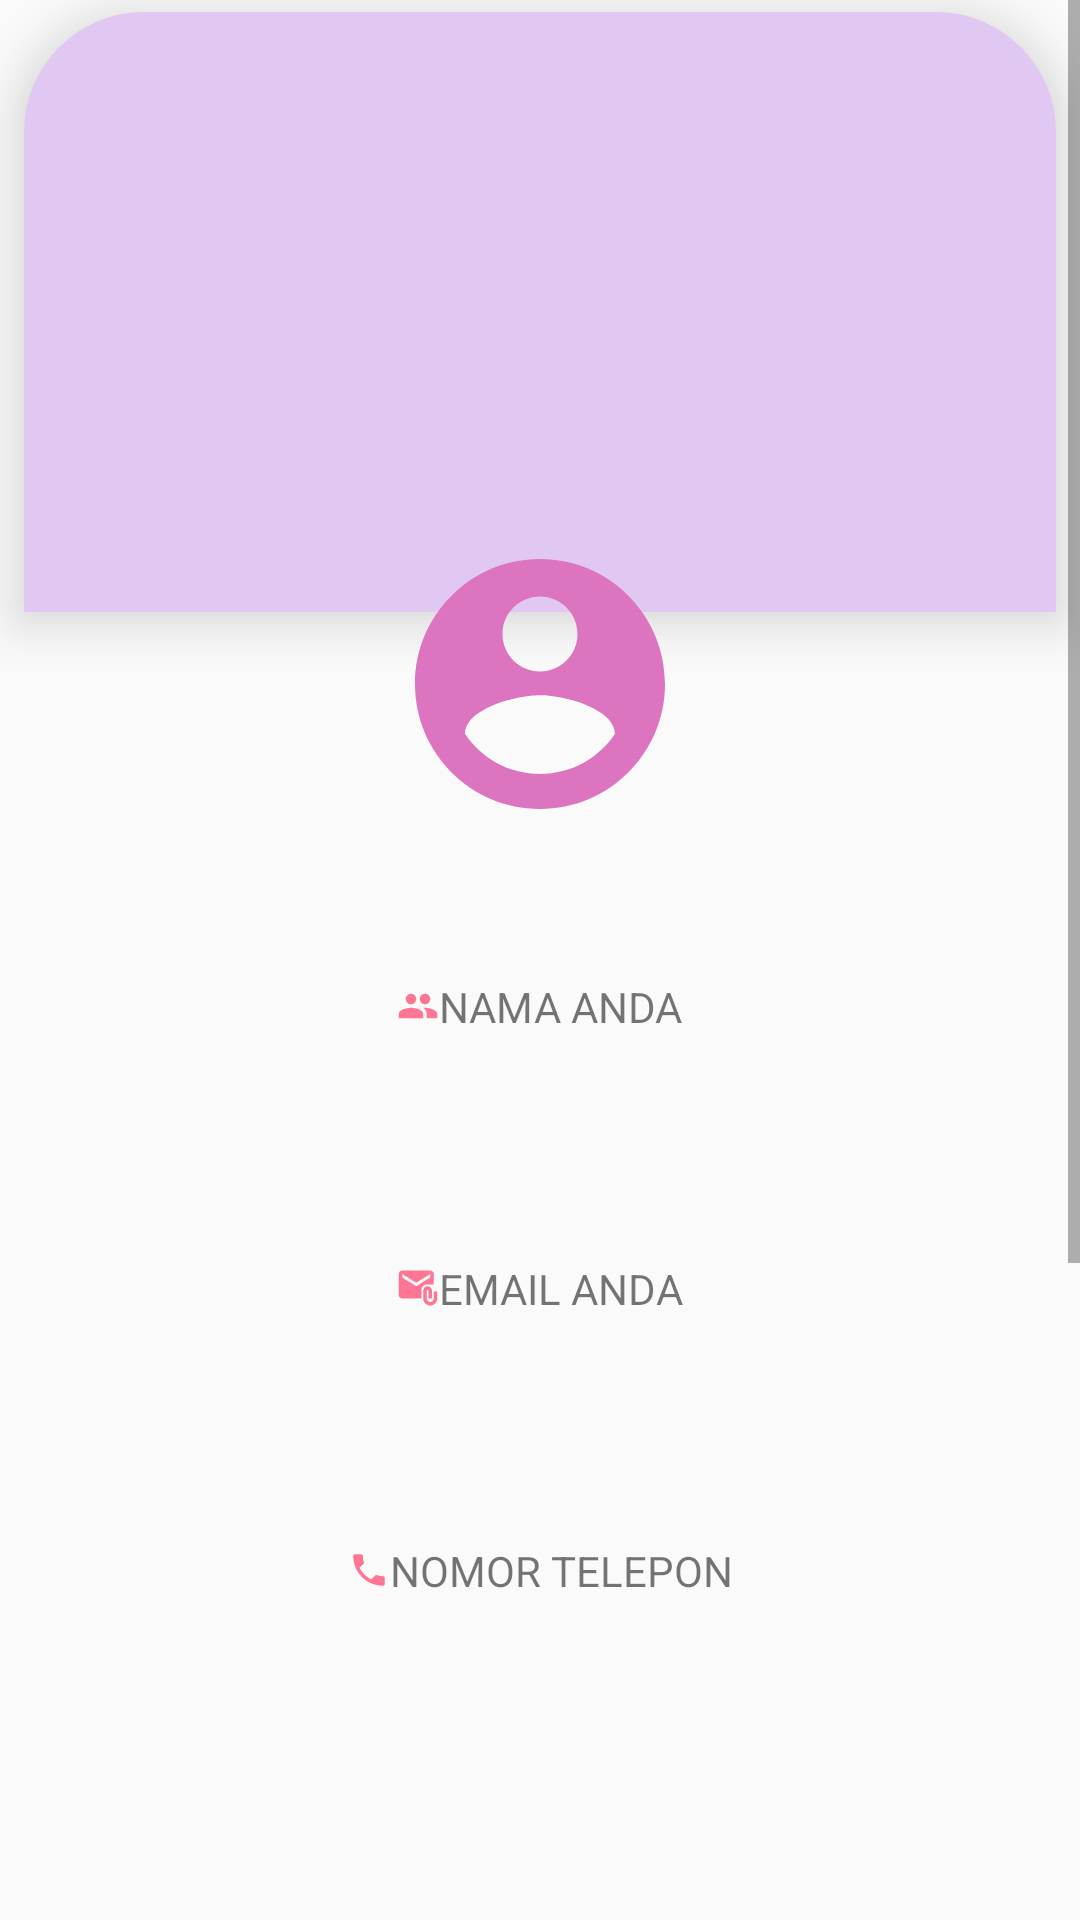

Icon click points for this 1080×1920 phone screenshot, format (x=x, y=y):
account circle: (x=540, y=671)
